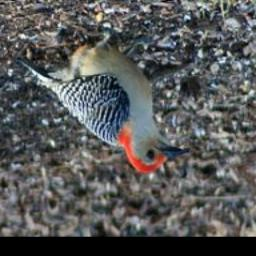Woodpecker: (24, 19, 188, 172)
